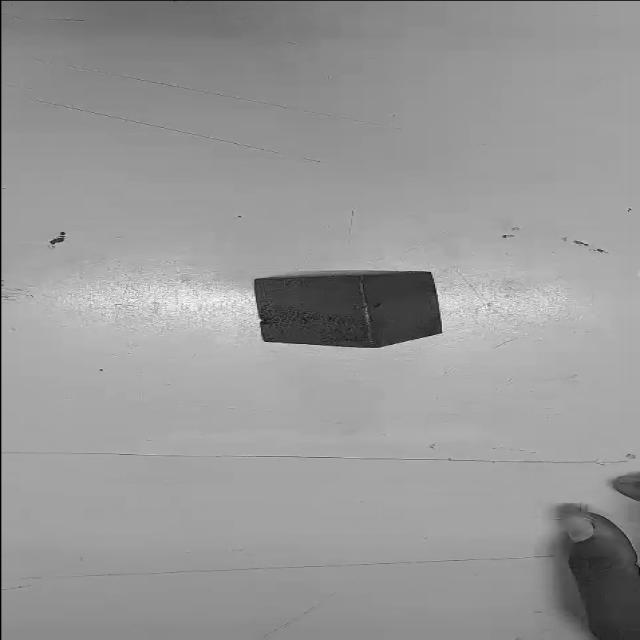rtriangle: (250, 270, 446, 348)
